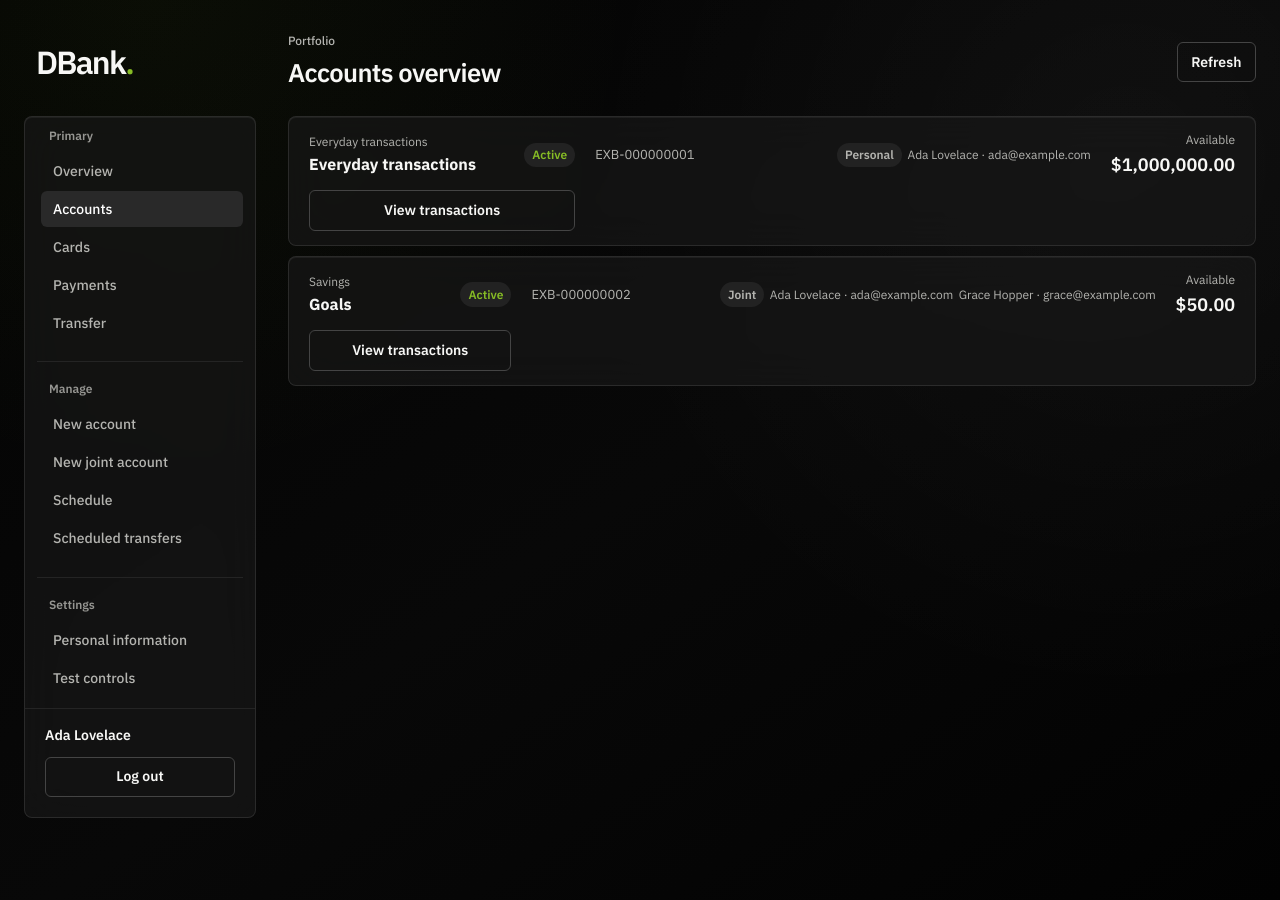
Test: Dashboard navigation › preserves loaded account history across in-session view changes
Expected: the element with test id "account-card-account-1" is shown, [288, 116, 1256, 246]
Click the button with test id "account-transactions-toggle-account-1".
click(442, 210)  # box [309, 190, 575, 231]
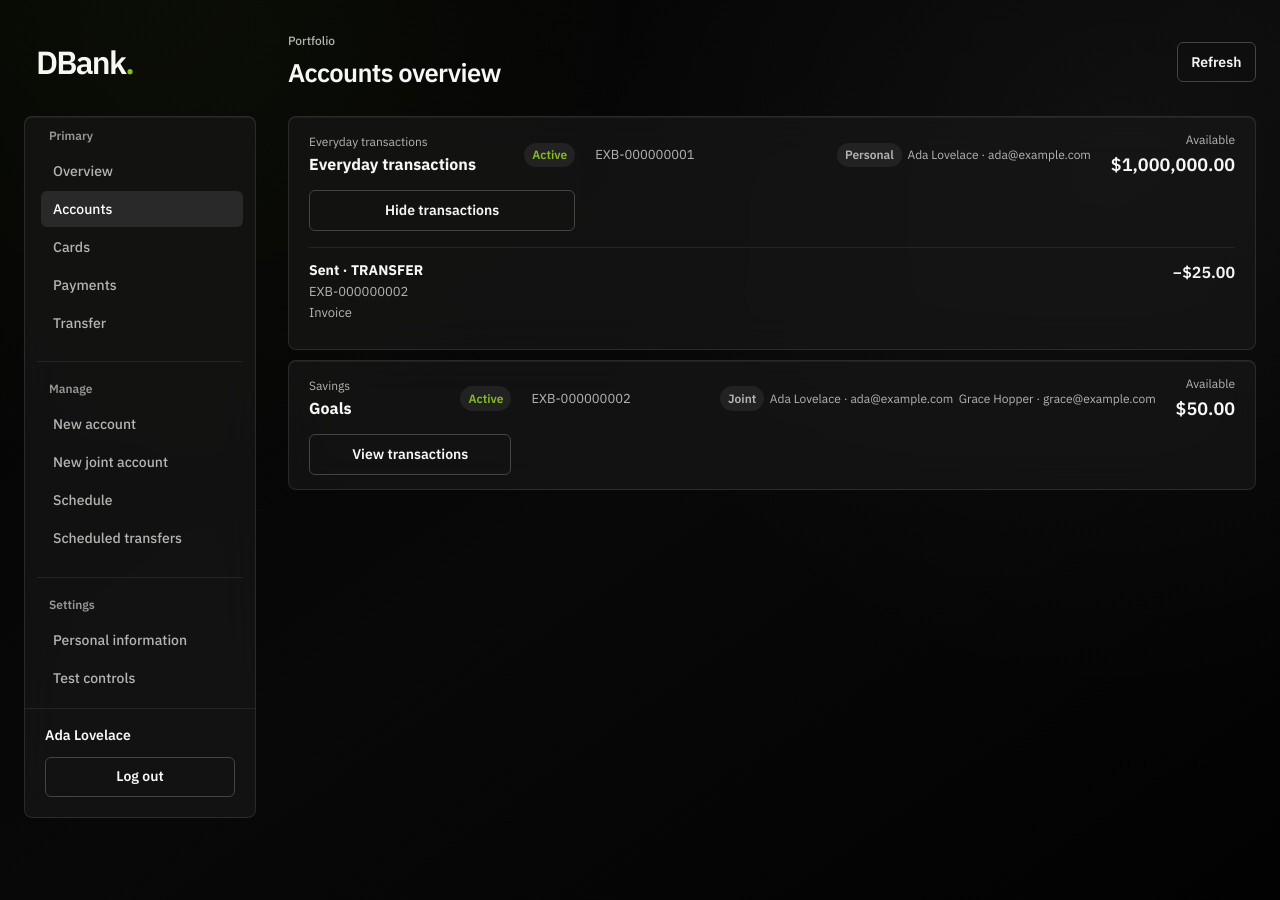
Expected: the element with test id "transaction-row-transaction-1" is shown, [309, 248, 1235, 335]
Click the link with test id "dashboard-nav-new-account".
click(95, 424)  # box [53, 415, 136, 433]
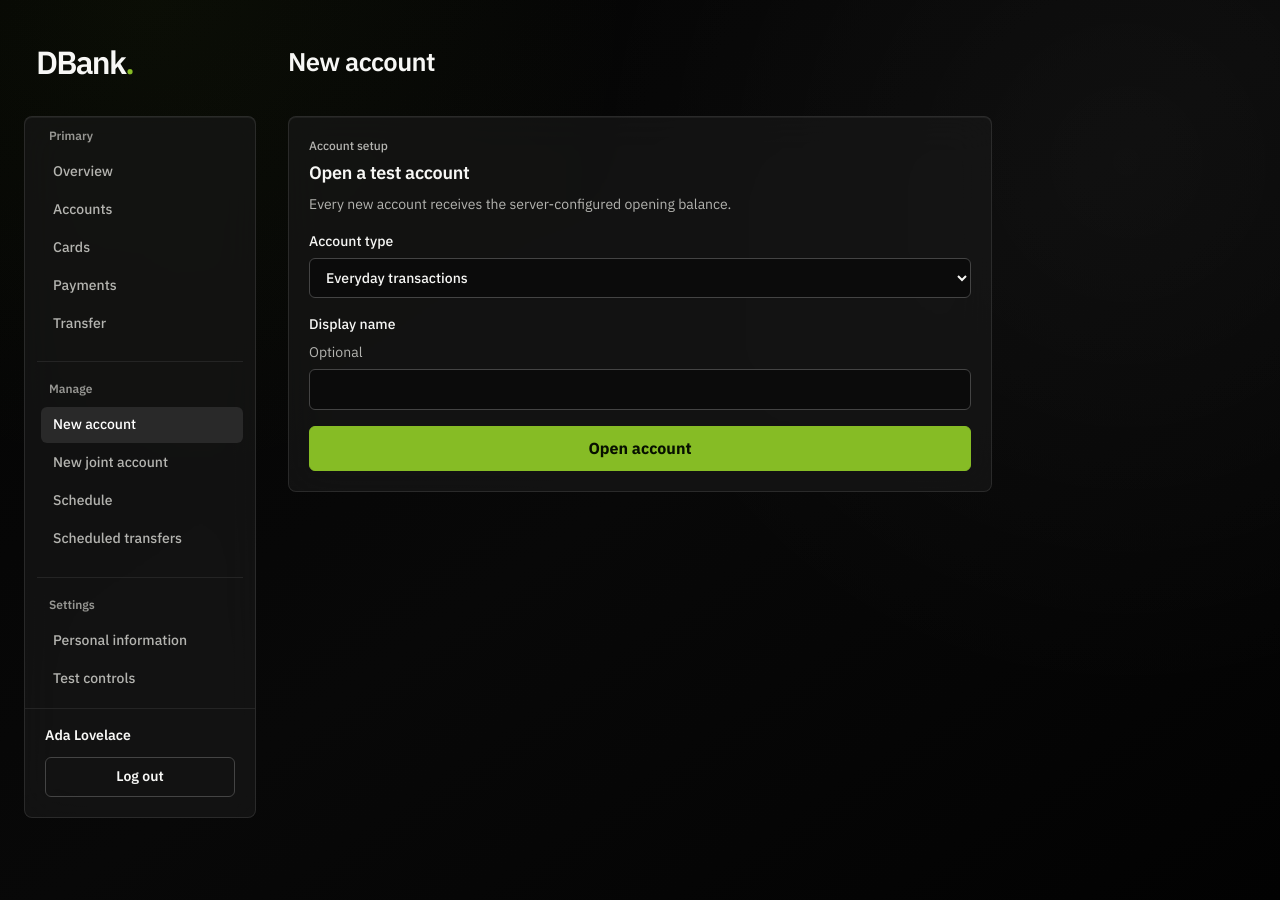
Expected: the element with test id "dashboard-view-new-account" is shown, [288, 45, 992, 492]
Click the link with test id "dashboard-nav-accounts-overview".
click(83, 209)  # box [53, 200, 112, 218]
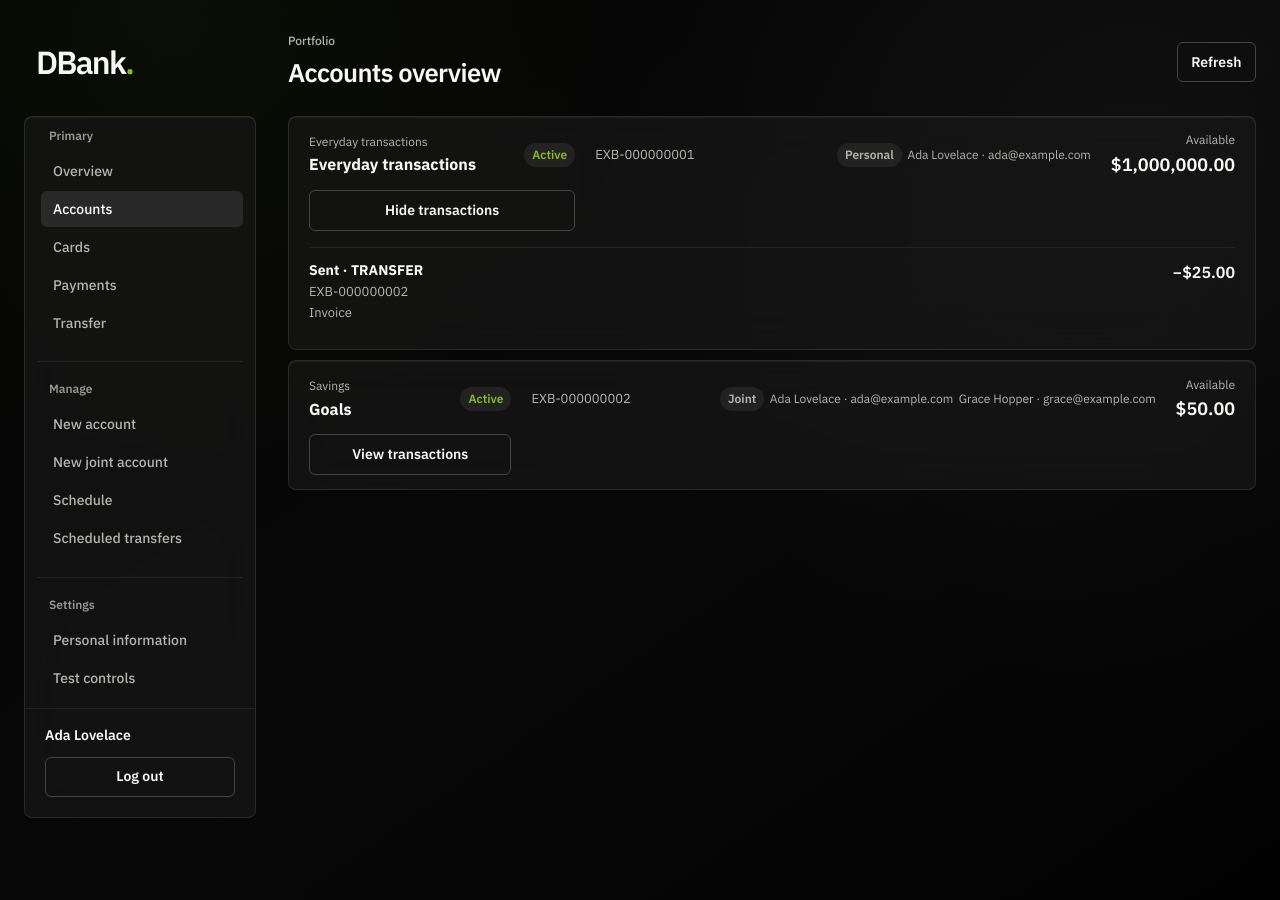
Expected: the element with test id "transactions-panel-account-1" is shown, [309, 247, 1235, 335]
Expected: the element with test id "transaction-row-transaction-1" is shown, [309, 248, 1235, 335]
